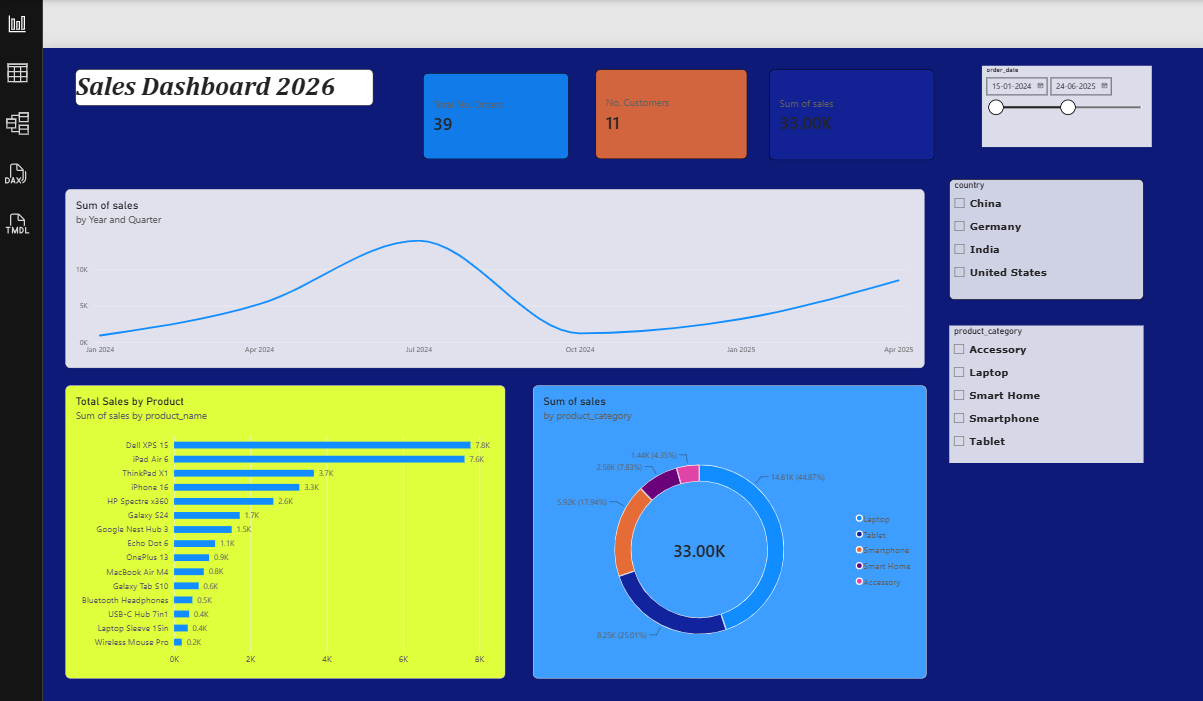

This screenshot's page, from the dashboard's own definition file:
{"tool":"powerbi","page":{"name":"Page 1","canvas":[1920,1080],"ordinal":0},"visuals":[{"type":"barChart","title":"Total Sales by Product","fields":{"Category":["orders.product_name"],"Y":["Sum(orders.sales)"]},"box":[38,556,724,482],"z":0},{"type":"donutChart","fields":{"Category":["orders.product_category"],"Y":["Sum(orders.sales)"]},"box":[806,556,648,482],"z":1},{"type":"cardVisual","fields":{"Data":["CountNonNull(orders.order_id)"]},"box":[626,42,240,142],"z":2},{"type":"cardVisual","fields":{"Data":["Count(orders.customer_id)"]},"box":[910,36,250,148],"z":4},{"type":"cardVisual","fields":{"Data":["Sum(orders.sales)"]},"box":[1196,34,272,150],"z":5},{"type":"lineChart","fields":{"Category":["orders.order_date.Variation.Date Hierarchy.Year","orders.order_date.Variation.Date Hierarchy.Quarter","orders.order_date.Variation.Date Hierarchy.Month","orders.order_date.Variation.Date Hierarchy.Day"],"Y":["Sum(orders.sales)"]},"box":[38,232,1414,294],"z":6},{"type":"slicer","fields":{"Values":["customers.country"]},"box":[1492,216,320,198],"z":8},{"type":"slicer","fields":{"Values":["orders.product_category"]},"box":[1492,456,320,226],"z":9},{"type":"slicer","fields":{"Values":["orders.order_date"]},"box":[1546,28,280,134],"z":10},{"type":"textbox","box":[54,36,490,60],"z":11}]}

Visuals, with their boxes in screenshot pixels (x1, y1, x2, y2):
"Total Sales by Product" barChart: [76, 381, 507, 669]
donutChart - orders.product_category x Sum(orders.sales): [534, 381, 920, 669]
cardVisual - CountNonNull(orders.order_id): [426, 75, 569, 160]
cardVisual - Count(orders.customer_id): [596, 72, 745, 160]
cardVisual - Sum(orders.sales): [766, 70, 928, 160]
lineChart - orders.order_date.Variation.Date Hierarchy.Year x orders.order_date.Variation.Date Hierarchy.Quarter: [76, 188, 919, 364]
slicer - customers.country: [942, 179, 1133, 297]
slicer - orders.product_category: [942, 322, 1133, 457]
slicer - orders.order_date: [975, 67, 1142, 147]
textbox: [85, 72, 377, 107]
